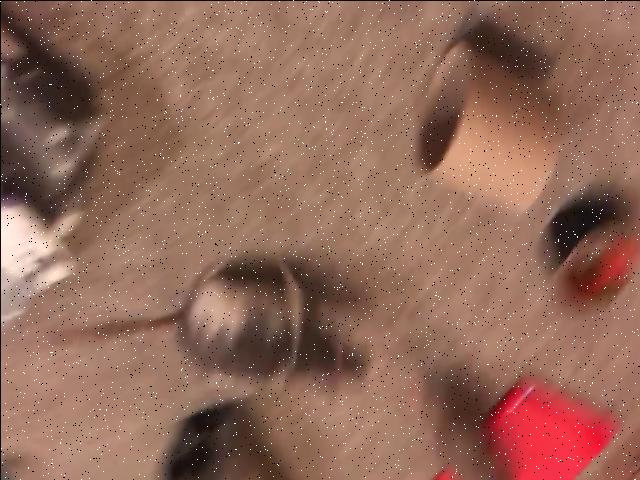Tikus: (175, 255, 371, 401)
